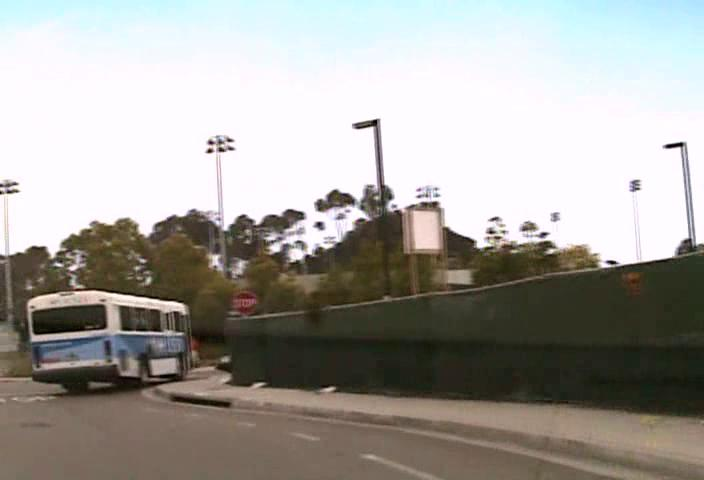stop: (230, 289, 257, 316)
